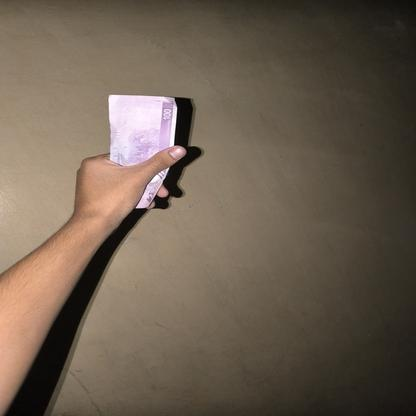one_hundred-back-vef: (108, 94, 178, 209)
